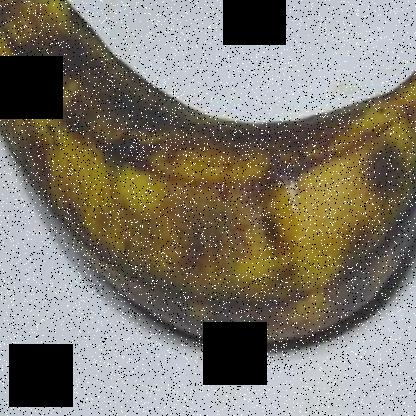overripe: (0, 0, 415, 356)
